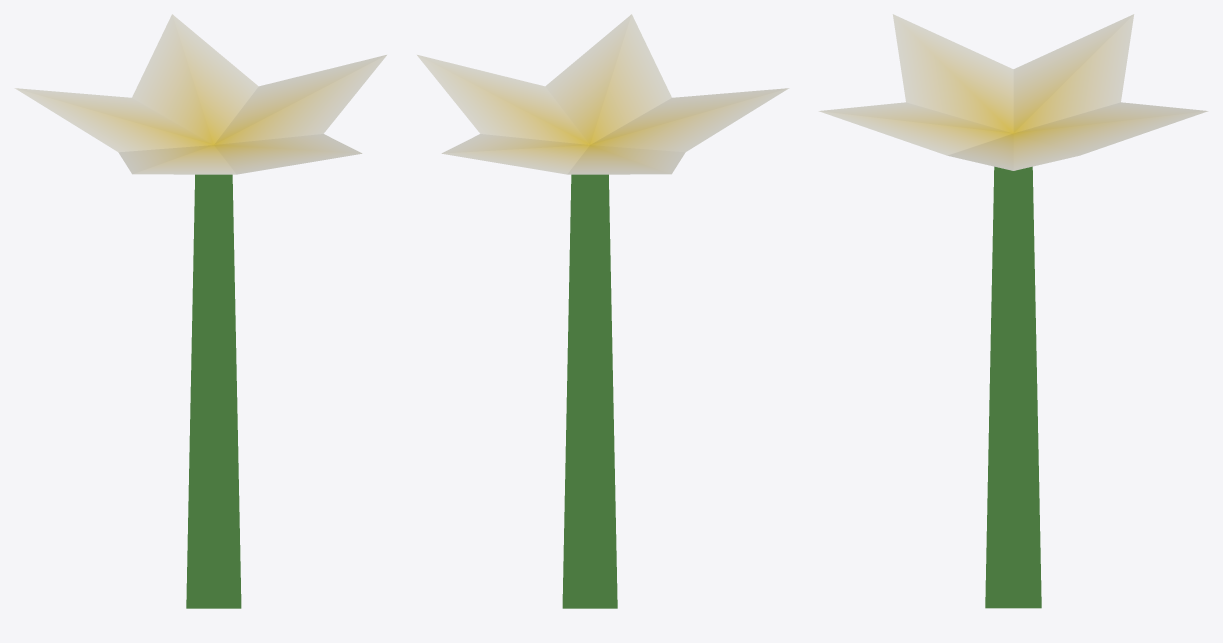
The model's file is flower_3.glb.
3 renders of one model, left to right at view 1: azimuth 30°, elevation 25°; view 2: azimuth 150°, elevation 25°; view 3: azimuth 270°, elevation 25°, orthographic. The views are drawn at different scales.
Visible parts, largest first — view 1: flower_3; view 2: flower_3; view 3: flower_3.
Boxes of the visible parts, x1=… form: flower_3: x1=14, y1=14, x2=386, y2=608; flower_3: x1=417, y1=14, x2=789, y2=608; flower_3: x1=818, y1=14, x2=1208, y2=608.
Bounding box in the file's own units: 0.2052 × 0.3235 × 0.2158.
